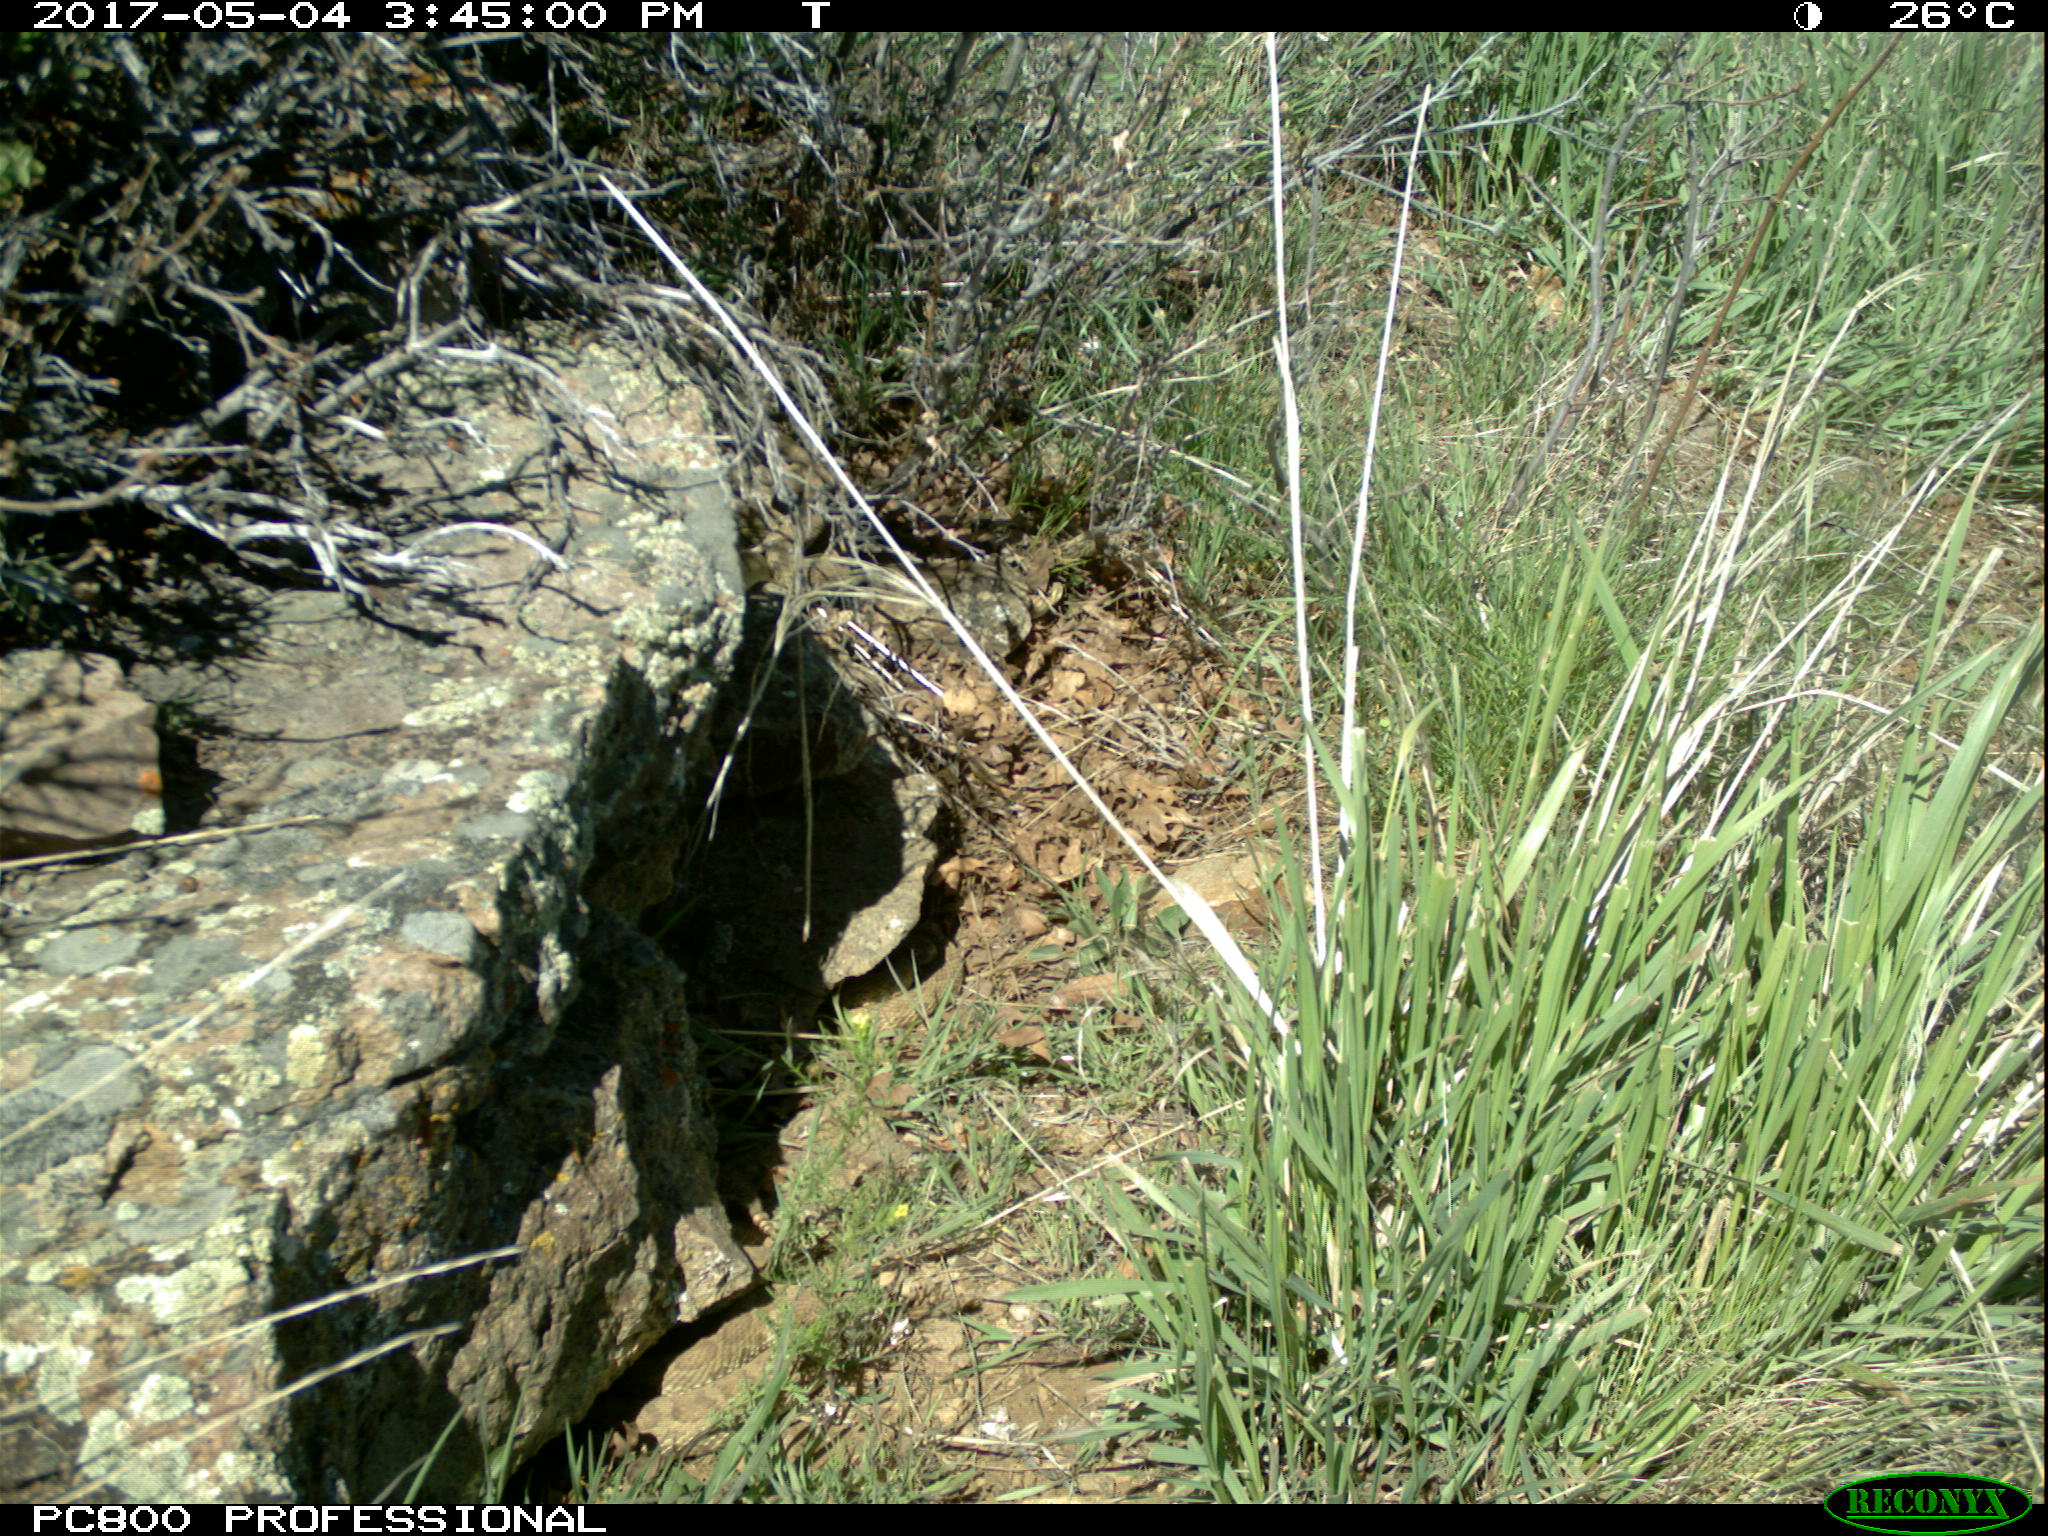snake: (619, 1284, 858, 1467)
